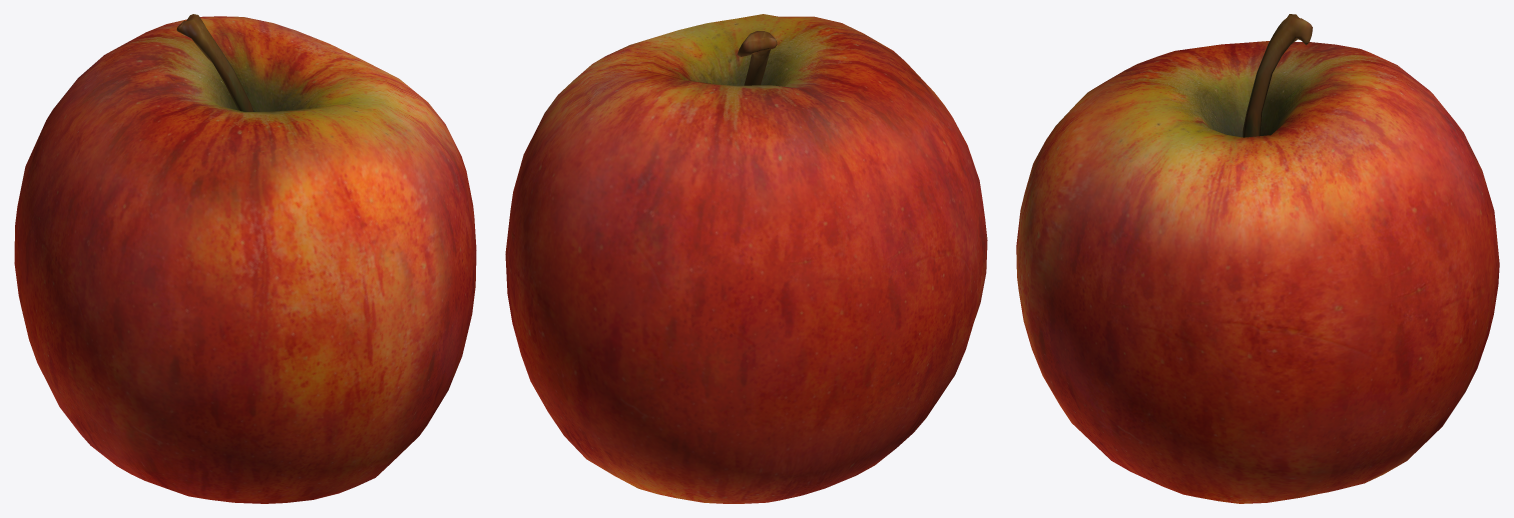
The model's file is apple.glb.
The picture shows the model from 3 angles, left to right: view 1: azimuth 30°, elevation 25°; view 2: azimuth 150°, elevation 25°; view 3: azimuth 270°, elevation 25°; orthographic projection. The views are drawn at different scales.
Parts seen in each view (by area): view 1: apple_low_obj; view 2: apple_low_obj; view 3: apple_low_obj.
Boxes of the visible parts, x1,y1,x2,y2 form: apple_low_obj: (14,14,476,503); apple_low_obj: (505,14,987,503); apple_low_obj: (1016,14,1499,503).
Bounding box in the file's own units: 76.34 × 79.5 × 82.14.
1 material, 1 textured.
